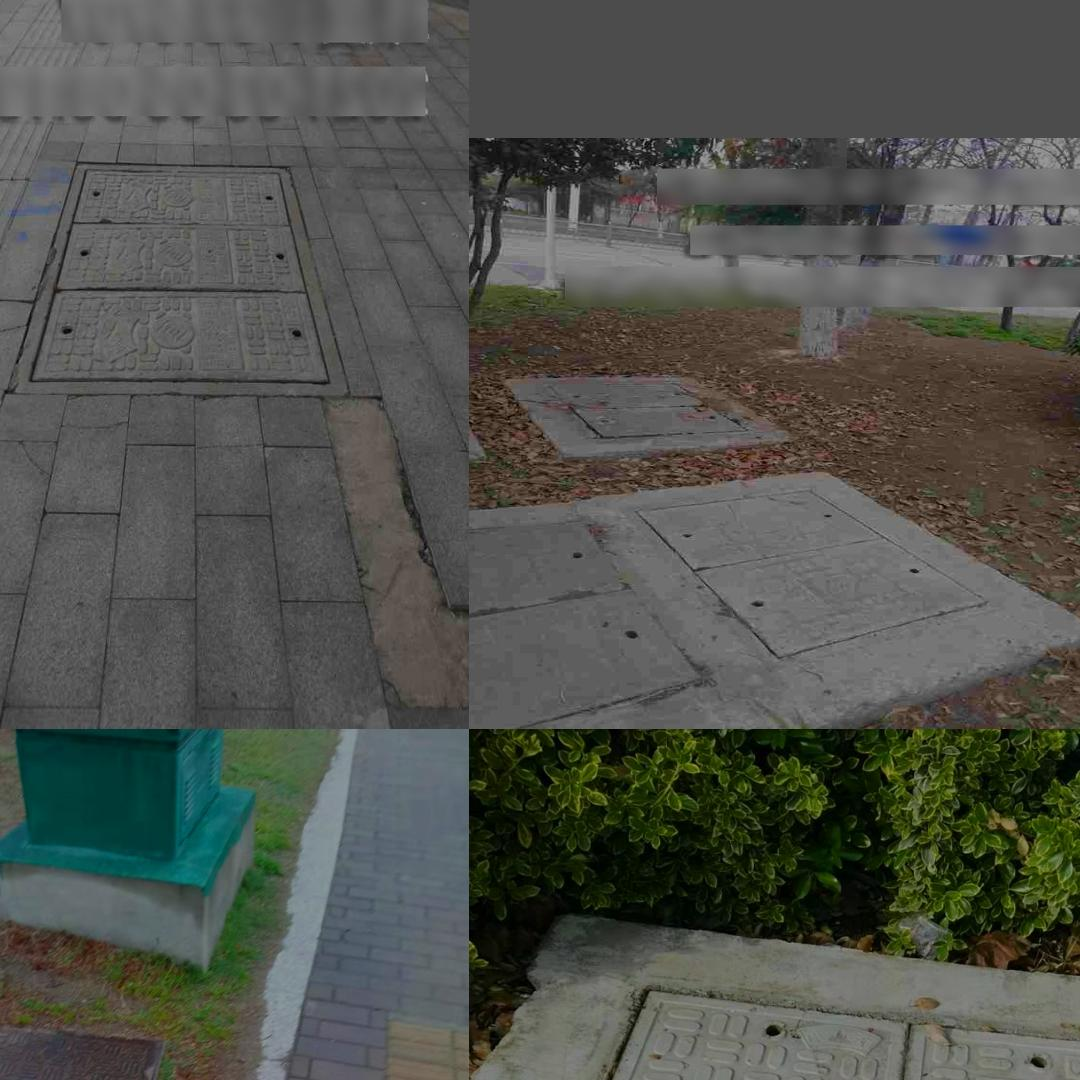good: (8, 162, 350, 397), (624, 485, 1000, 667), (469, 515, 727, 729), (530, 983, 1080, 1080), (542, 379, 756, 443), (0, 1027, 162, 1080)
